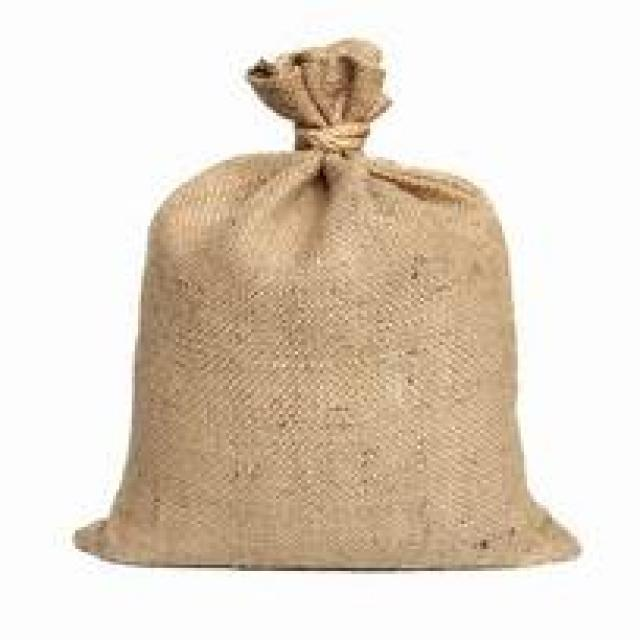gunny_bag: (69, 38, 590, 573)
